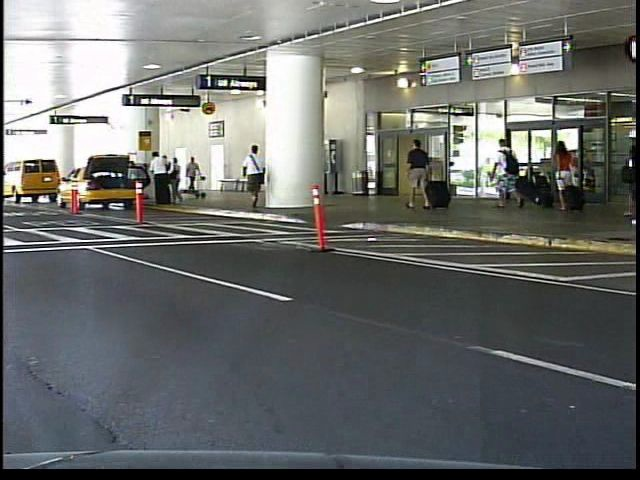person: (490, 133, 527, 213), (551, 134, 583, 221), (240, 142, 272, 215), (404, 136, 432, 214), (184, 154, 203, 199)
